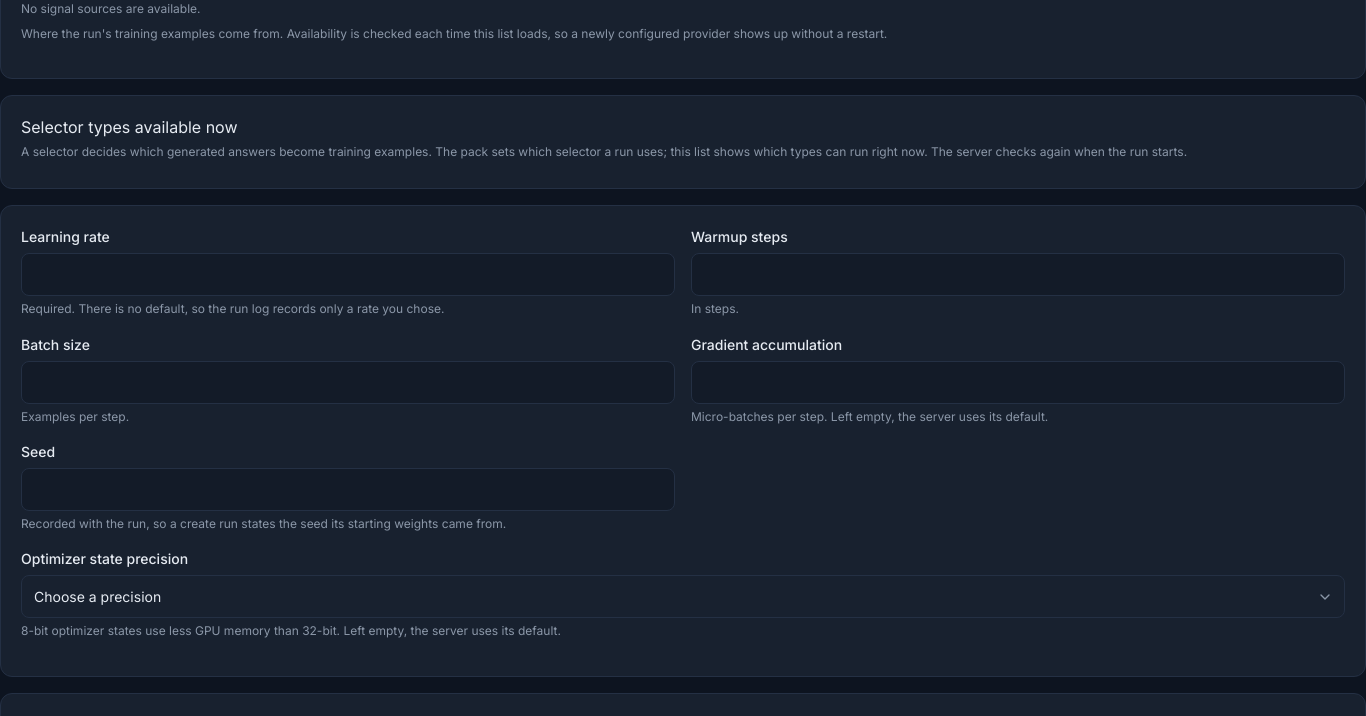
[NewRunForm] › should show what will be submitted, so a default would be visible
(page scrolled)
Type "8" into the field with test id "optimizer-batchSize".
click(348, 382); type("8")  # box [21,361,675,404]
(page scrolled)
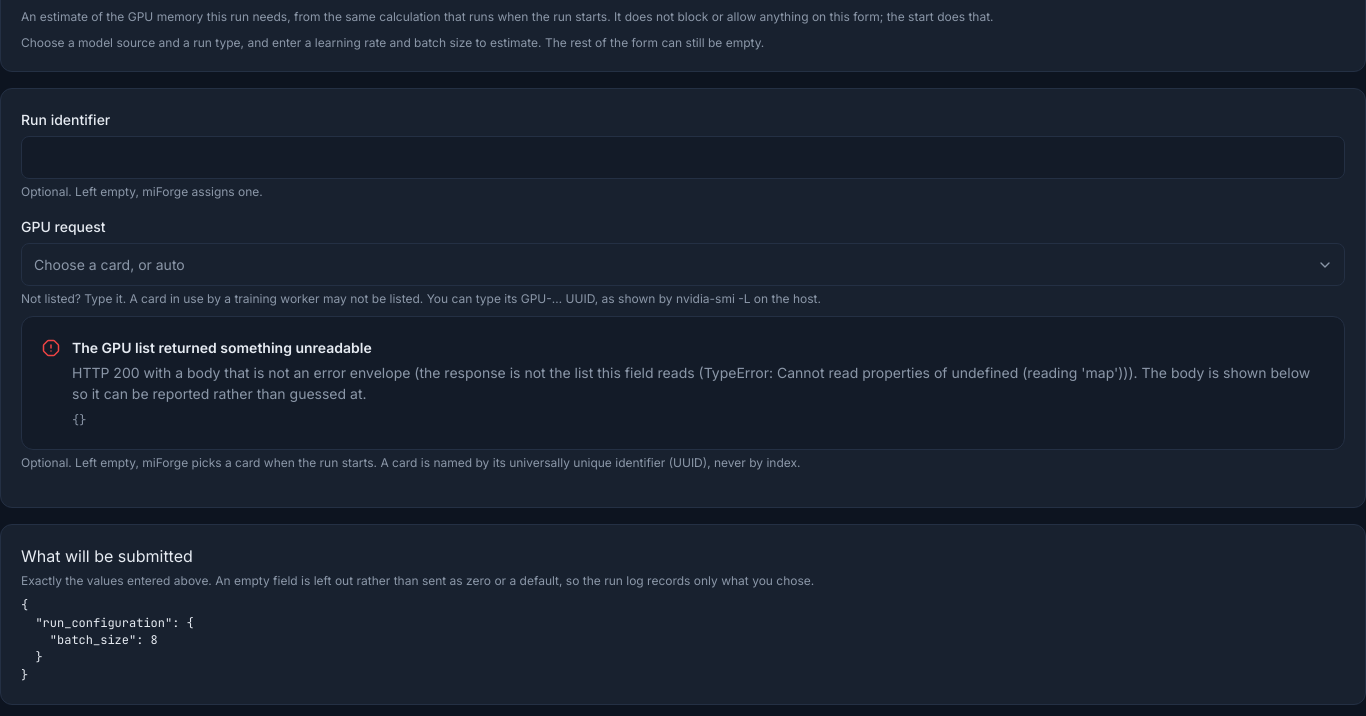
Check: the element with test id "submitted-body" shows "\"batch_size\": 8", box [21,597,194,683]
Check: the element with test id "submitted-body" shows "run_configuration", box [21,597,194,683]
